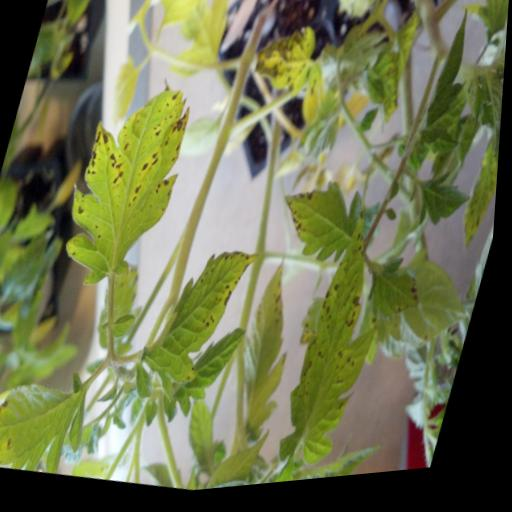Healthy: (416, 9, 488, 165), (415, 173, 480, 242)
Septoria: (272, 194, 418, 488), (49, 59, 206, 301), (129, 234, 271, 425), (0, 352, 108, 486), (267, 173, 385, 283), (241, 11, 331, 117), (359, 257, 436, 344)
